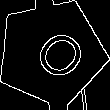O_SW: (18, 20, 85, 87)
